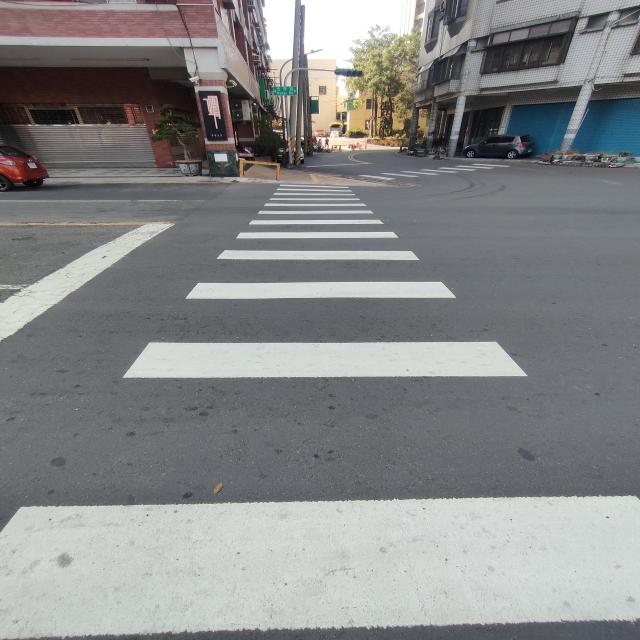zebra crossing: (1, 181, 637, 640), (360, 163, 509, 181)
